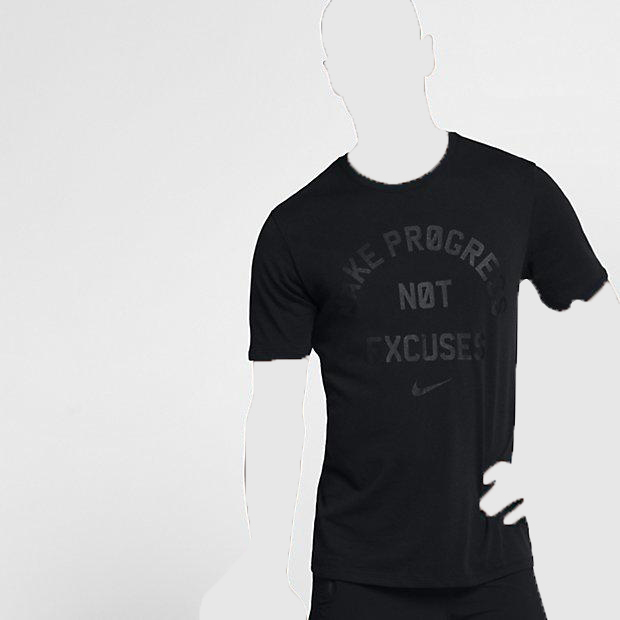teeshirt: (240, 125, 610, 589)
